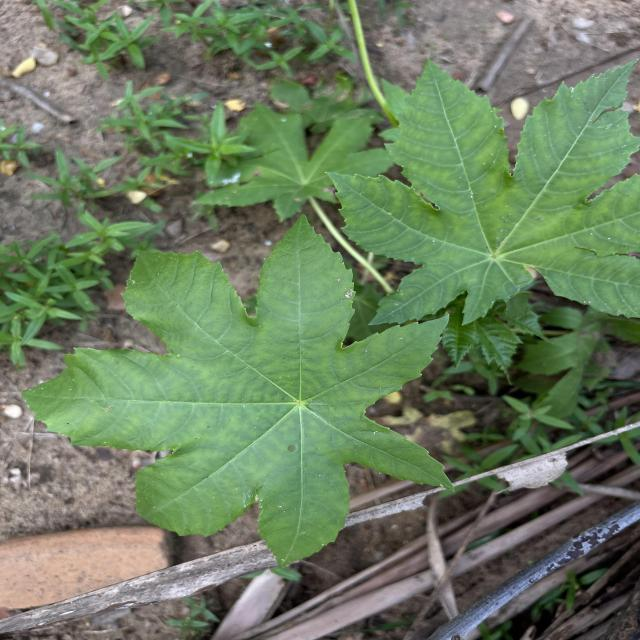Ricinus communis linn: (16, 207, 461, 574)
